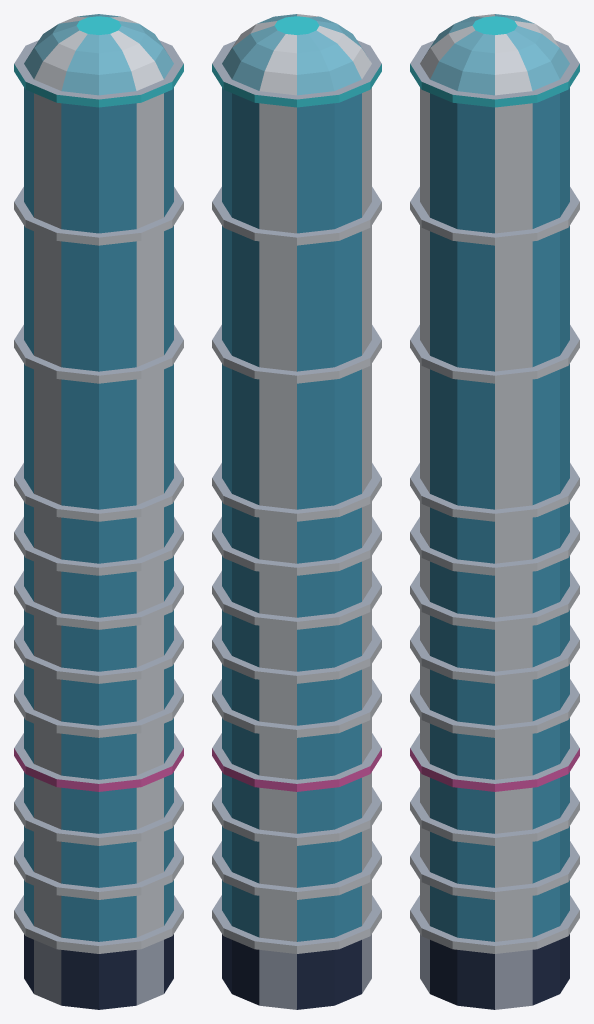
File: city-tower-5.glb
The picture shows the model from 3 angles, left to right: view 1: azimuth 30°, elevation 25°; view 2: azimuth 150°, elevation 25°; view 3: azimuth 270°, elevation 25°; orthographic projection.
Parts seen in each view (by area): view 1: CityTower5; view 2: CityTower5; view 3: CityTower5.
Part boxes in pixels (<box>): CityTower5: <box>14,14,183,1009</box>; CityTower5: <box>212,14,381,1009</box>; CityTower5: <box>410,14,579,1009</box>.
Bounding box in the file's own units: 15.37 × 95.2 × 15.37.
